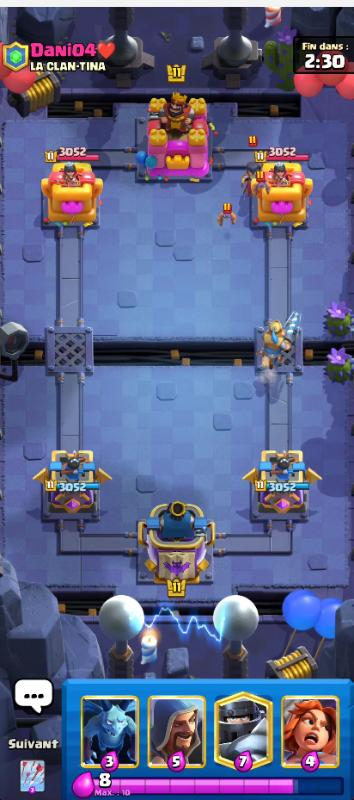bat: (215, 208, 238, 223)
